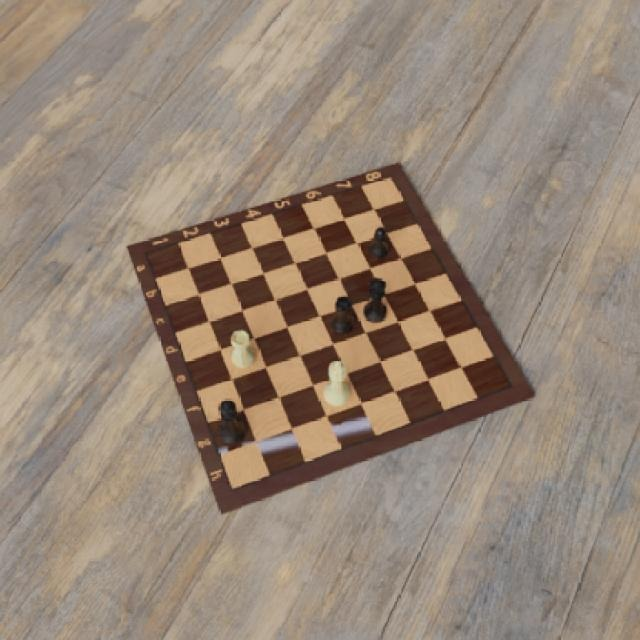black-king: (216, 397, 247, 444)
black-pawn: (370, 228, 390, 260)
black-queen: (363, 275, 391, 325)
black-rook: (328, 295, 356, 335)
white-king: (320, 356, 352, 407)
white-rook: (228, 329, 256, 368)
